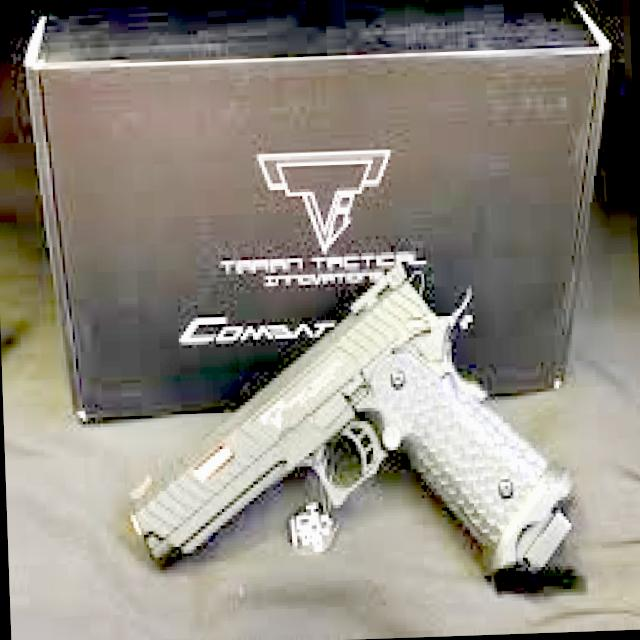semi automatic: (106, 228, 586, 616)
